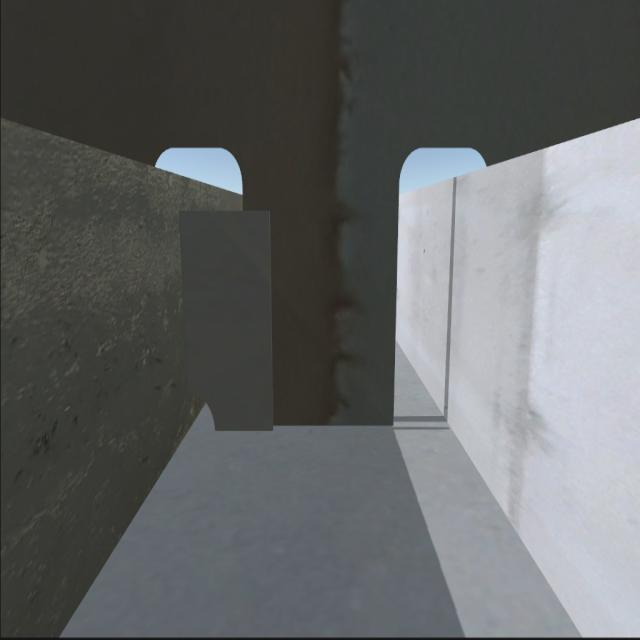fillet_hole: (189, 389, 216, 434)
fillet_yong_jeop_jang: (212, 420, 398, 436)
longi_yong_jeop_jang: (174, 212, 194, 393)
plate_CP01: (179, 213, 272, 427)
